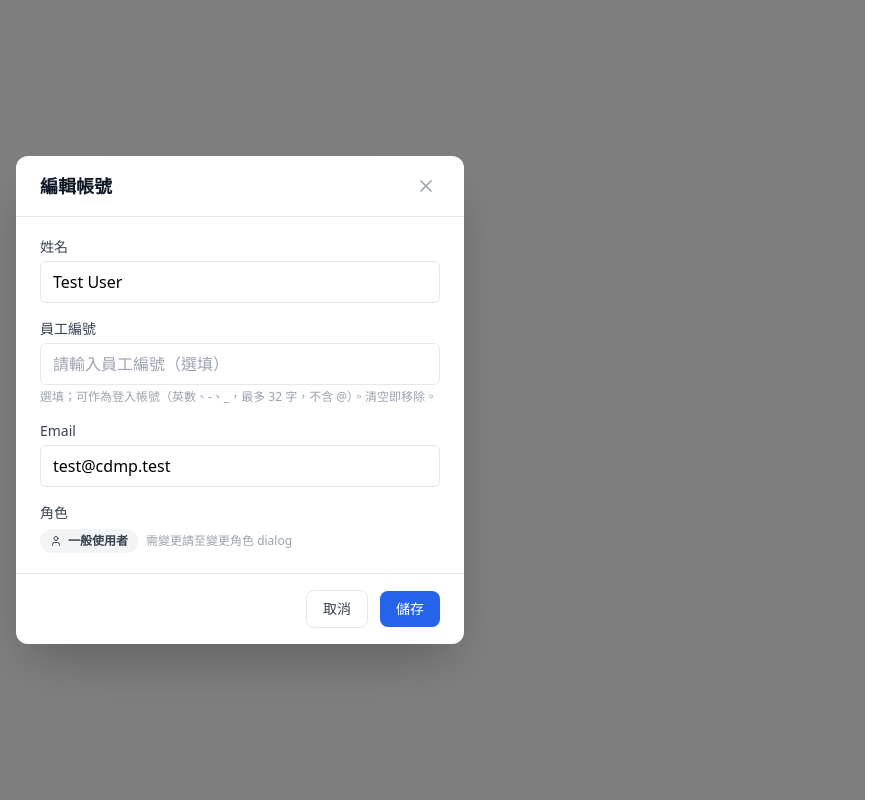
Test: EditAccountModal › 前端欄位驗證 › 姓名清空後提交顯示錯誤
Clear the field labelled "姓名" at (240, 282), box [40, 261, 440, 303]
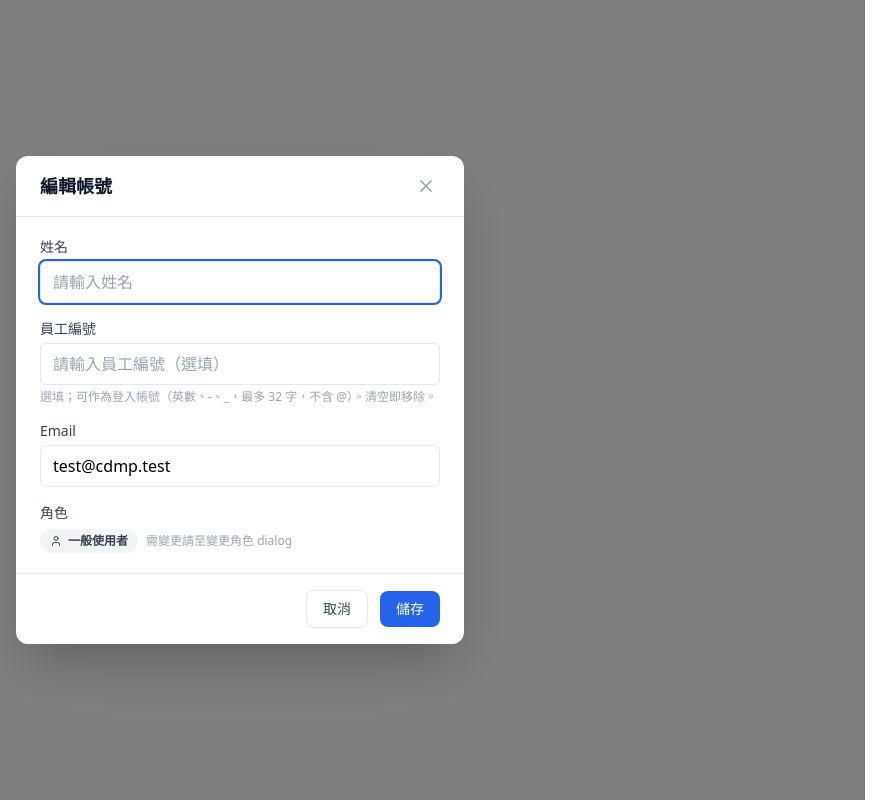
Click the button "儲存".
click(410, 609)  # box [380, 591, 440, 627]
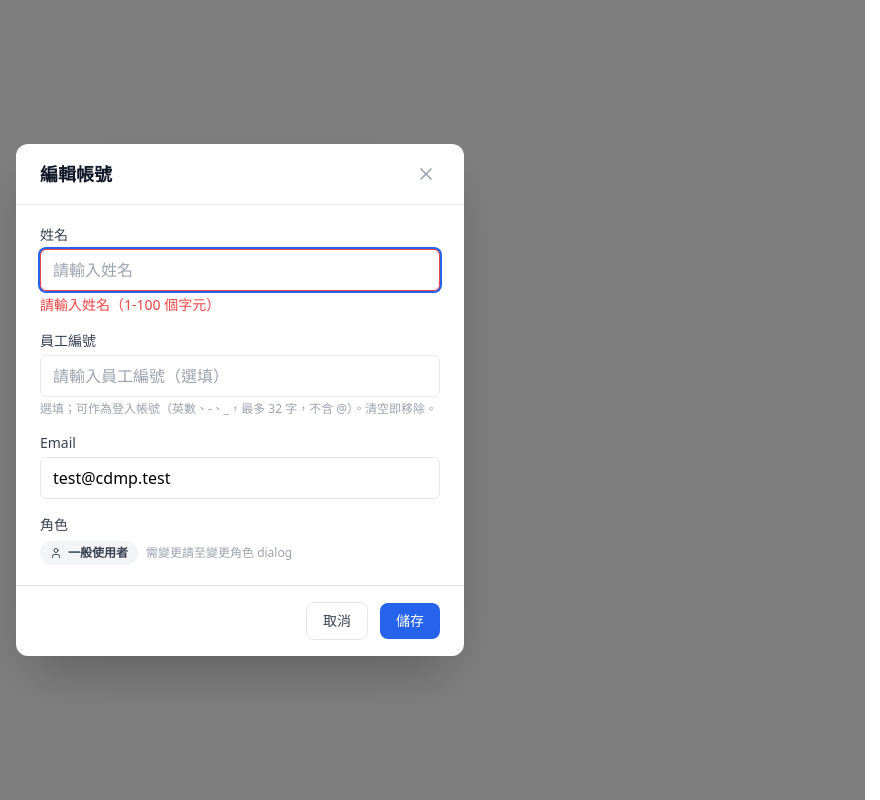
Check: the text "請輸入姓名（1-100 個字元）" is shown, box [40, 295, 220, 314]
